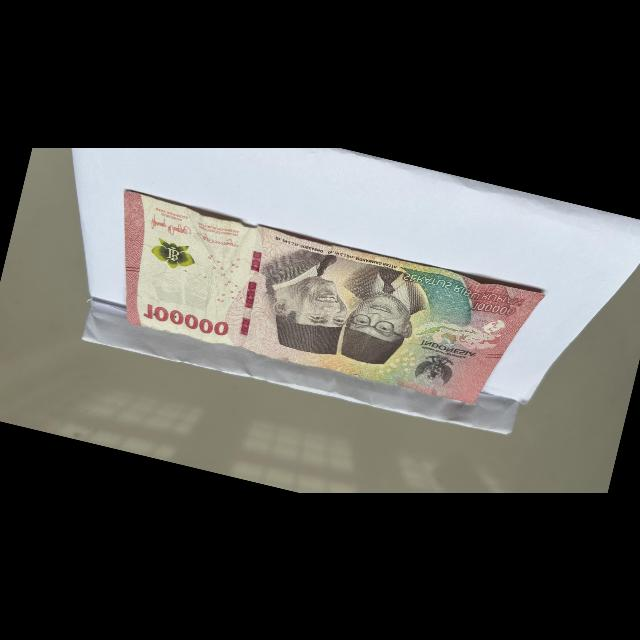Palsu-100k: (90, 185, 551, 424)
Tinta-Palsu-100k: (148, 235, 199, 274)
